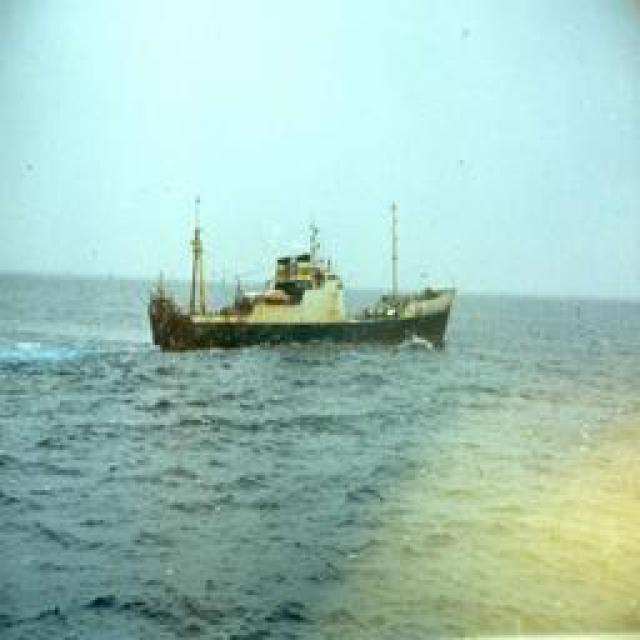Ship: (155, 219, 458, 354)
